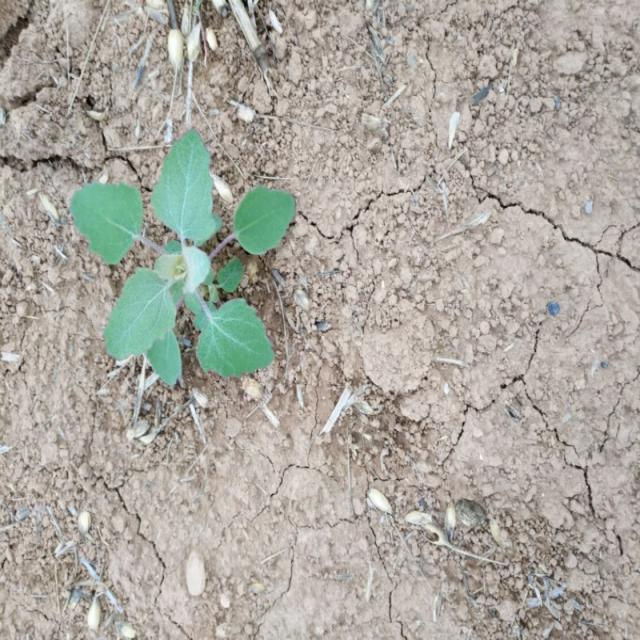goosefoots: (64, 133, 309, 396)
